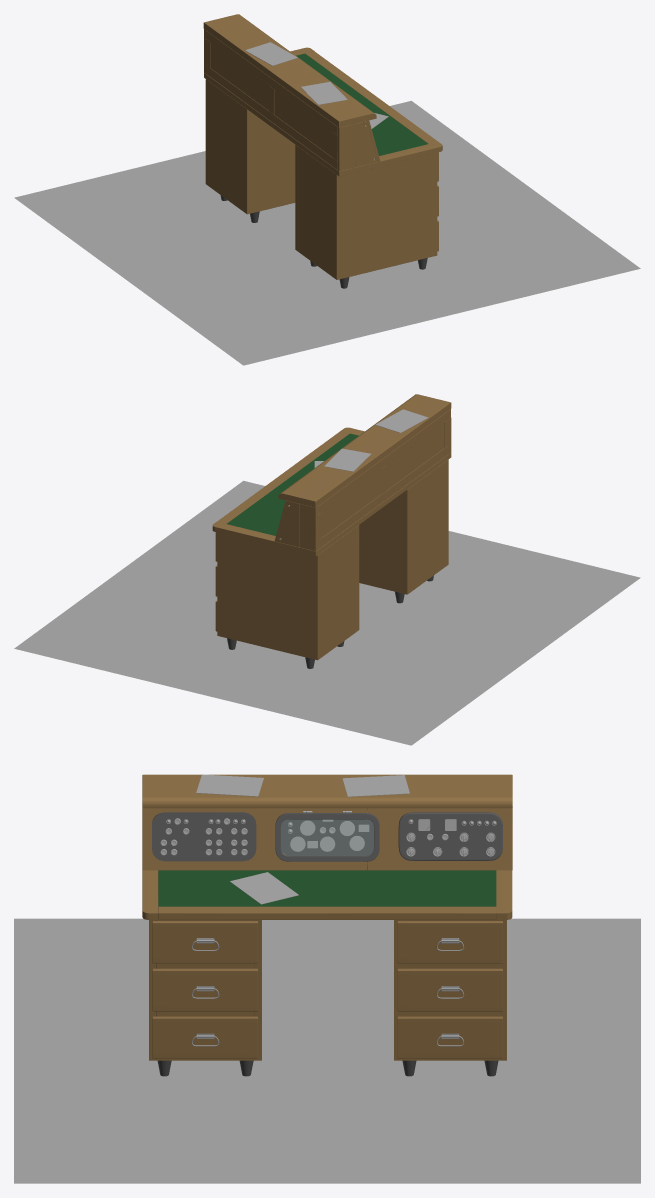
The model's file is Table with control panel HP.fbx.
The picture shows the model from 3 angles, top to bottom: view 1: azimuth 30°, elevation 25°; view 2: azimuth 150°, elevation 25°; view 3: azimuth 270°, elevation 25°; orthographic projection. The views are drawn at different scales.
Visible parts, largest first — view 1: pPlane1, stand_HP:Stand_hp, Stand_hp, Table:table3, Stand_hp5, stand_HP:Stand_hp5, polySurface60, pCube46, pCube45, polySurface386, polySurface382, polySurface58 (+4 smaller); view 2: pPlane1, Stand_hp, stand_HP:Stand_hp, Table:table3, Stand_hp5, stand_HP:Stand_hp5, polySurface60, pCube46, pCube45, polySurface386, polySurface382, polySurface58 (+4 smaller); view 3: pPlane1, polySurface60, Table:table3, polySurface319, polySurface58, polySurface369, polySurface355, polySurface376, polySurface362, polySurface348, polySurface341, PanelHP1_PanelHP1table2_Dup_18 (+14 smaller).
Boxes of the visible parts, x1,y1,x2,y2 form: pPlane1: (14,100,640,365); stand_HP:Stand_hp: (295,145,437,279); Stand_hp: (205,79,295,214); Table:table3: (203,14,376,127); Stand_hp5: (208,81,244,211); stand_HP:Stand_hp5: (298,147,333,277); polySurface60: (296,53,427,155); pCube46: (210,43,269,110); pCube45: (274,89,332,157); polySurface386: (205,65,337,169); polySurface382: (205,30,337,135); polySurface58: (305,51,437,143); pPlane1: (14,480,640,745); Stand_hp: (217,525,359,660); stand_HP:Stand_hp: (359,459,448,594); Table:table3: (278,394,451,507); Stand_hp5: (320,527,356,657); stand_HP:Stand_hp5: (410,461,445,592); polySurface60: (227,433,358,535); pCube46: (322,469,380,537); pCube45: (386,423,444,490); polySurface386: (317,445,449,549); polySurface382: (317,410,449,514); polySurface58: (217,431,349,523); pPlane1: (14,918,640,1183); polySurface60: (158,870,496,906); Table:table3: (142,774,512,808); polySurface319: (275,811,379,861); polySurface58: (158,906,496,919); polySurface369: (152,968,258,1011); polySurface355: (397,968,502,1011); polySurface376: (152,1016,258,1058); polySurface362: (152,921,258,963); polySurface348: (397,1016,502,1058); polySurface341: (397,921,502,963); PanelHP1_PanelHP1table2_Dup_18: (152,812,256,861).
Size of the model in its own units: 15 by 6.33 by 15.
